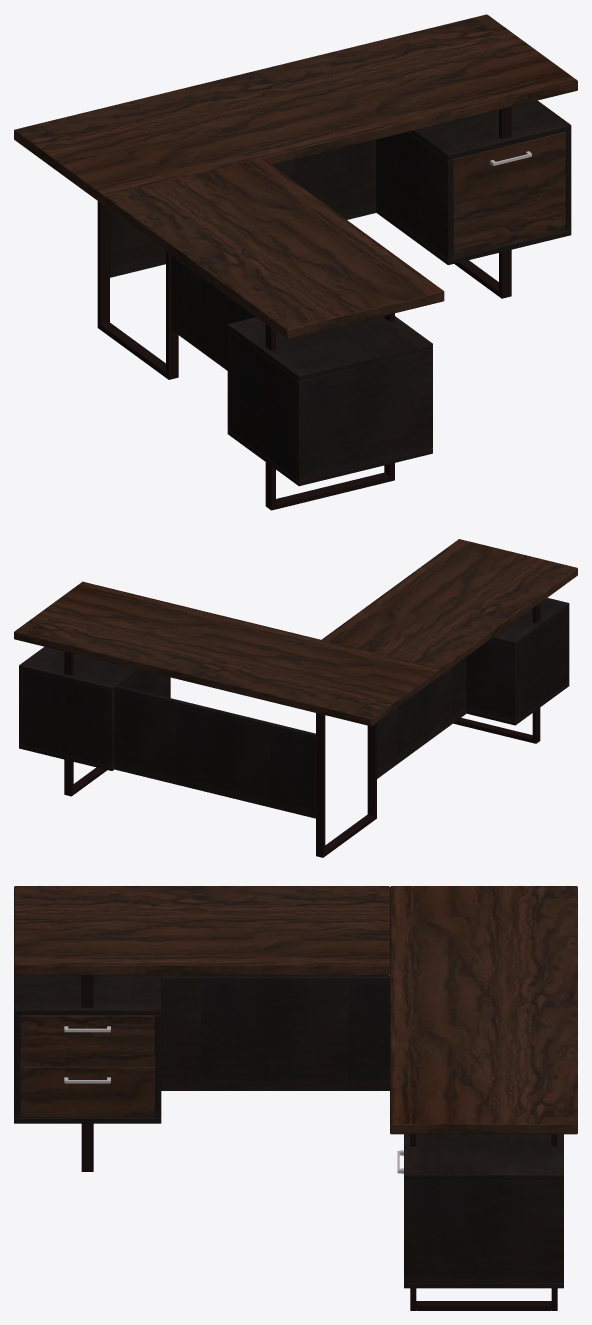
3 renders of one model, top to bottom at view 1: azimuth 30°, elevation 25°; view 2: azimuth 150°, elevation 25°; view 3: azimuth 270°, elevation 25°, orthographic. The views are drawn at different scales.
Parts seen in each view (by area): view 1: Box001, Box002, Box017, Box014, Box008, Box012, Box016, Box019, Box007, Box010, Rectangle003, Shape001 (+5 smaller); view 2: Box001, Box008, Box002, Box013, Box007, Box019, Box018, Box010, Rectangle003, Box012, Box016, Shape001 (+5 smaller); view 3: Box001, Box002, Box007, Box011, Box020, Box010, Box016, Shape002, Box015, Rectangle001, Box009, Box018 (+1 smaller).
Boxes of the visible parts, box(x1,y1,x2,y2) form: Box001: box(14, 14, 577, 205); Box002: box(105, 158, 444, 339); Box017: box(296, 349, 432, 480); Box014: box(452, 132, 565, 257); Box008: box(110, 140, 375, 277); Box012: box(376, 132, 452, 259); Box016: box(227, 316, 432, 381); Box019: box(230, 331, 296, 478); Box007: box(171, 255, 256, 370); Box010: box(409, 100, 571, 160); Rectangle003: box(97, 201, 178, 379); Shape001: box(276, 472, 389, 509); Box001: box(14, 581, 440, 726); Box008: box(114, 685, 315, 818); Box002: box(322, 539, 577, 675); Box013: box(22, 670, 108, 766); Box007: box(377, 657, 466, 778); Box019: box(517, 609, 567, 719); Box018: box(466, 640, 517, 721); Box010: box(19, 646, 141, 691); Rectangle003: box(316, 713, 376, 857); Box012: box(108, 670, 170, 766); Box016: box(490, 598, 569, 646); Shape001: box(453, 717, 532, 742); Box001: box(390, 886, 577, 1134); Box002: box(14, 886, 389, 975); Box007: box(161, 975, 389, 1090); Box011: box(404, 1180, 563, 1282); Box020: box(20, 1015, 154, 1117); Box010: box(404, 1134, 563, 1180); Box016: box(14, 975, 161, 1015); Shape002: box(416, 1301, 551, 1310); Box015: box(14, 1053, 161, 1123); Rectangle001: box(81, 975, 93, 1171); Box009: box(404, 1283, 563, 1288); Box018: box(155, 1015, 161, 1118).
Size of the model in its own units: 1.8 by 0.76 by 1.8.
Materials: 4 (2 with a texture image).
